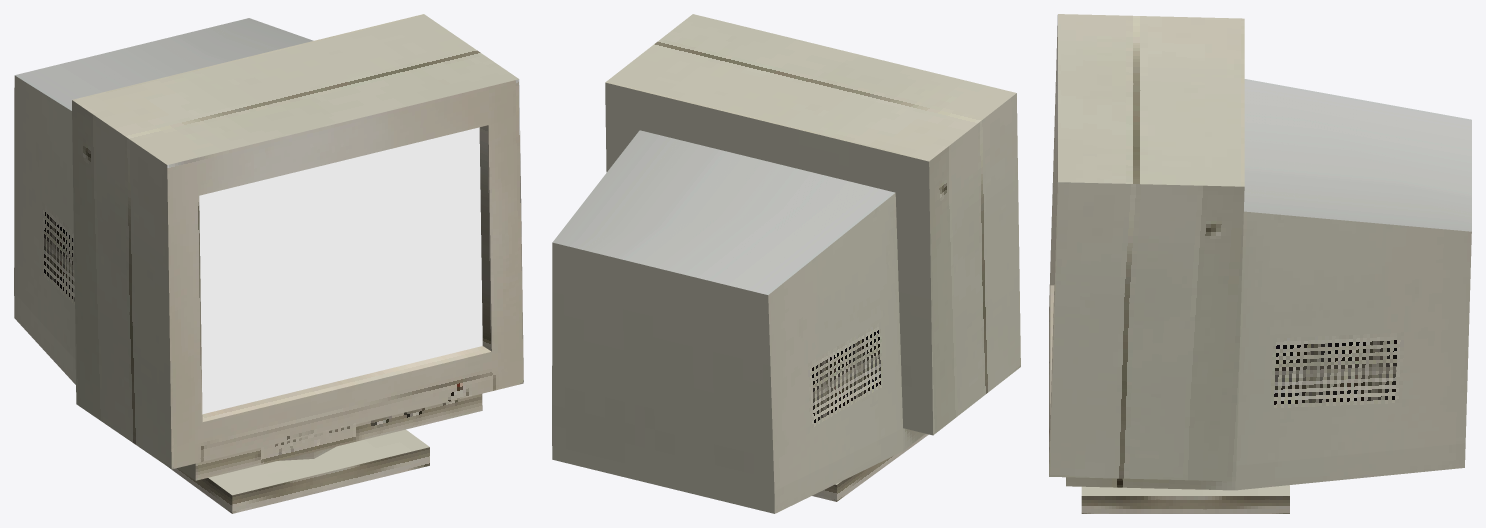
Rendered from monitor.glb.
The picture shows the model from 3 angles, left to right: view 1: azimuth 30°, elevation 25°; view 2: azimuth 150°, elevation 25°; view 3: azimuth 270°, elevation 25°; orthographic projection. The views are drawn at different scales.
Visible parts, largest first — view 1: monitor; view 2: monitor; view 3: monitor.
Part boxes in pixels (box(x1,y1,x2,y2)): monitor: box(14, 14, 523, 513); monitor: box(552, 14, 1020, 513); monitor: box(1049, 14, 1471, 513).
Bounding box in the file's own units: 0.5565 × 0.5689 × 0.5913.
2 materials, 2 textured.
